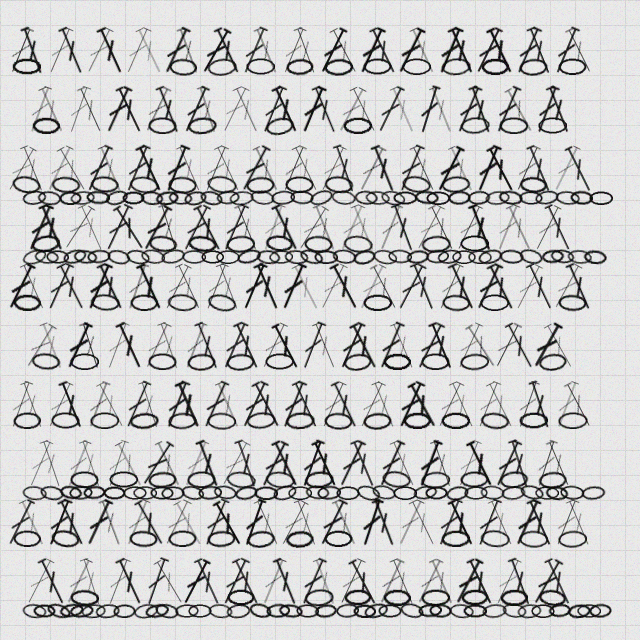chain: (264, 115, 296, 137), (206, 292, 238, 314), (206, 174, 238, 195), (11, 174, 42, 195), (401, 174, 432, 195), (30, 233, 61, 254), (381, 469, 412, 490), (50, 528, 81, 549), (207, 57, 237, 77), (129, 175, 159, 195), (148, 234, 178, 254), (187, 234, 217, 254), (343, 234, 373, 254), (480, 411, 510, 431), (226, 470, 256, 490), (265, 470, 295, 490), (246, 529, 276, 549), (167, 293, 198, 312), (343, 352, 372, 372), (538, 352, 567, 372), (538, 588, 567, 608), (441, 57, 471, 76), (187, 116, 217, 135), (460, 116, 490, 135), (324, 175, 354, 194), (441, 175, 471, 194), (90, 293, 120, 312), (31, 352, 61, 371), (246, 411, 276, 430), (285, 411, 315, 430), (304, 470, 334, 489), (499, 470, 529, 489), (480, 529, 510, 548), (304, 588, 334, 607), (308, 187, 335, 208), (90, 175, 119, 194), (265, 234, 294, 253), (51, 176, 81, 194), (421, 235, 451, 253), (21, 247, 48, 267), (298, 247, 325, 267), (129, 412, 159, 430), (355, 483, 382, 503), (45, 601, 72, 621), (324, 58, 353, 76), (519, 58, 548, 76), (168, 176, 197, 194), (246, 176, 275, 194), (519, 176, 548, 194), (226, 235, 255, 253), (304, 235, 333, 253), (558, 294, 587, 312), (187, 353, 216, 371), (226, 353, 255, 371), (460, 353, 489, 371), (168, 412, 197, 430), (207, 412, 236, 430), (324, 412, 353, 430), (363, 412, 392, 430), (148, 471, 177, 489), (421, 471, 450, 489), (538, 471, 567, 489), (129, 530, 158, 548), (207, 530, 236, 548), (285, 530, 314, 548), (519, 530, 548, 548), (558, 530, 587, 548), (70, 589, 99, 607), (558, 412, 588, 429), (169, 58, 197, 76), (286, 58, 314, 76), (442, 294, 470, 312), (104, 188, 130, 207), (62, 247, 88, 266), (160, 247, 186, 266), (236, 247, 262, 266), (477, 247, 503, 266), (518, 247, 544, 266), (272, 483, 298, 502), (371, 483, 397, 502), (519, 483, 545, 502), (363, 601, 389, 620), (399, 601, 425, 620), (12, 58, 41, 75), (246, 58, 275, 75), (363, 58, 392, 75), (402, 58, 431, 75), (558, 58, 587, 75), (148, 117, 177, 134), (343, 117, 372, 134), (499, 117, 528, 134), (538, 117, 567, 134), (285, 176, 314, 193), (460, 235, 489, 252), (363, 294, 392, 311), (480, 294, 509, 311), (70, 353, 99, 370), (148, 353, 177, 370), (265, 353, 294, 370), (421, 353, 450, 370), (51, 412, 80, 429), (90, 412, 119, 429), (441, 412, 470, 429), (519, 412, 548, 429), (70, 471, 99, 488), (109, 471, 138, 488), (187, 471, 216, 488), (460, 471, 489, 488), (168, 530, 197, 547), (324, 530, 353, 547), (441, 530, 470, 547), (421, 589, 450, 606), (481, 58, 509, 75), (32, 117, 60, 134), (13, 294, 41, 311), (130, 294, 158, 311), (383, 353, 411, 370), (13, 412, 41, 429), (403, 412, 431, 429), (13, 530, 41, 547), (227, 589, 255, 606), (344, 589, 372, 606), (383, 589, 411, 606), (461, 589, 489, 606), (500, 589, 528, 606), (248, 601, 273, 620), (380, 189, 406, 207), (125, 248, 151, 266), (372, 248, 398, 266), (39, 484, 65, 502), (133, 602, 159, 620), (144, 602, 170, 620), (154, 602, 180, 620), (183, 189, 208, 207), (199, 189, 224, 207), (106, 248, 131, 266), (352, 248, 377, 266), (180, 484, 205, 502), (234, 484, 259, 502), (445, 484, 470, 502), (534, 189, 560, 206), (140, 248, 166, 265), (22, 189, 47, 206), (250, 189, 275, 206), (331, 189, 356, 206), (498, 189, 523, 206), (332, 248, 357, 265), (437, 248, 462, 265), (550, 248, 575, 265), (413, 484, 438, 501), (59, 602, 84, 619), (502, 602, 527, 619), (59, 484, 83, 501), (213, 484, 237, 501), (37, 190, 62, 206), (70, 190, 95, 206), (168, 190, 193, 206), (229, 190, 254, 206), (365, 190, 390, 206), (485, 190, 510, 206), (555, 190, 580, 206), (34, 249, 59, 265), (73, 249, 98, 265), (256, 249, 281, 265), (284, 249, 309, 265), (567, 249, 592, 265), (22, 485, 47, 501), (501, 485, 526, 501), (581, 485, 606, 501), (22, 603, 47, 619), (69, 603, 94, 619), (81, 603, 106, 619), (95, 603, 120, 619), (208, 603, 233, 619), (226, 603, 251, 619), (278, 603, 303, 619), (449, 603, 474, 619), (482, 603, 507, 619), (517, 603, 542, 619), (140, 190, 164, 206), (155, 190, 179, 206), (406, 249, 430, 265), (583, 249, 607, 265), (545, 485, 569, 501), (314, 603, 338, 619), (567, 603, 591, 619), (414, 190, 439, 205), (499, 249, 524, 264), (305, 485, 330, 500), (480, 485, 505, 500), (86, 190, 110, 205), (216, 190, 240, 205), (271, 190, 295, 205), (290, 190, 314, 205), (354, 190, 378, 205), (467, 190, 491, 205), (87, 249, 111, 264), (388, 249, 412, 264), (541, 249, 565, 264), (69, 485, 93, 500), (198, 485, 222, 500), (317, 485, 341, 500), (560, 485, 584, 500), (266, 603, 290, 618), (418, 603, 442, 618), (548, 603, 572, 618), (448, 190, 471, 205), (570, 190, 593, 205), (426, 249, 449, 264), (83, 485, 106, 500), (336, 603, 359, 618), (429, 603, 452, 618), (589, 603, 612, 618), (393, 191, 417, 205), (426, 191, 450, 205), (519, 191, 543, 205), (589, 191, 613, 205), (182, 250, 206, 264), (216, 250, 240, 264), (269, 250, 293, 264), (314, 250, 338, 264), (452, 250, 476, 264), (468, 250, 492, 264), (123, 486, 147, 500), (133, 486, 157, 500), (150, 486, 174, 500), (161, 486, 185, 500), (254, 486, 278, 500), (288, 486, 312, 500), (336, 486, 360, 500), (393, 486, 417, 500), (464, 486, 488, 500), (535, 486, 559, 500), (175, 604, 199, 618), (188, 604, 212, 618), (378, 604, 402, 618), (463, 604, 487, 618), (531, 604, 555, 618), (577, 604, 601, 618), (59, 191, 82, 205), (122, 191, 145, 205), (46, 250, 69, 264), (201, 250, 224, 264), (103, 486, 126, 500), (425, 486, 448, 500), (33, 604, 56, 618), (113, 604, 136, 618), (296, 604, 319, 618), (353, 604, 376, 618)
double: (20, 321, 60, 371), (461, 321, 501, 371), (137, 439, 177, 488), (293, 203, 332, 253), (236, 143, 274, 194), (548, 261, 586, 312), (501, 320, 539, 371), (528, 320, 566, 371), (92, 379, 130, 430), (216, 438, 254, 489), (131, 497, 169, 548), (59, 203, 98, 252), (110, 203, 149, 252), (197, 26, 235, 76), (2, 144, 40, 194), (53, 144, 91, 194), (540, 321, 578, 371), (209, 498, 247, 548), (150, 557, 188, 607), (528, 557, 566, 607), (326, 25, 363, 76), (392, 25, 429, 76), (411, 202, 448, 253), (53, 261, 90, 312), (326, 261, 363, 312), (489, 320, 526, 371), (248, 379, 285, 430), (482, 379, 519, 430), (560, 379, 597, 430), (314, 497, 351, 548), (21, 556, 58, 607), (450, 556, 487, 607), (333, 85, 370, 135), (501, 85, 538, 135), (138, 203, 175, 253), (404, 380, 441, 430), (111, 439, 148, 489), (170, 498, 207, 548), (275, 498, 312, 548), (345, 557, 382, 607), (81, 25, 117, 76), (315, 25, 351, 76), (561, 25, 597, 76), (139, 84, 175, 135), (217, 84, 253, 135), (100, 202, 136, 253), (424, 202, 460, 253), (3, 261, 39, 312), (315, 261, 351, 312), (444, 261, 480, 312), (522, 261, 558, 312), (139, 320, 175, 371), (327, 379, 363, 430), (432, 379, 468, 430), (81, 497, 117, 548), (159, 497, 195, 548), (405, 497, 441, 548), (34, 556, 70, 607), (217, 556, 253, 607), (354, 144, 390, 194), (432, 144, 468, 194), (483, 144, 519, 194), (561, 144, 597, 194), (178, 203, 214, 253), (190, 203, 226, 253), (529, 203, 565, 253), (159, 262, 195, 312), (288, 262, 324, 312), (354, 262, 390, 312), (366, 262, 402, 312), (393, 262, 429, 312), (483, 262, 519, 312), (510, 262, 546, 312), (268, 321, 304, 371), (346, 321, 382, 371), (412, 321, 448, 371), (256, 439, 292, 489), (178, 557, 214, 607), (93, 25, 128, 76), (120, 25, 155, 76), (132, 25, 167, 76), (159, 25, 194, 76), (210, 25, 245, 76), (354, 25, 389, 76), (366, 25, 401, 76), (444, 25, 479, 76), (471, 25, 506, 76), (483, 25, 518, 76), (73, 84, 108, 135), (112, 84, 147, 135), (229, 84, 264, 135), (268, 84, 303, 135), (346, 84, 381, 135), (373, 84, 408, 135), (42, 143, 77, 194), (132, 143, 167, 194), (210, 143, 245, 194), (249, 143, 284, 194), (288, 143, 323, 194), (315, 143, 350, 194), (444, 143, 479, 194), (510, 143, 545, 194), (549, 143, 584, 194), (268, 202, 303, 253), (451, 202, 486, 253), (502, 202, 537, 253), (541, 202, 576, 253), (42, 261, 77, 312), (93, 261, 128, 312), (171, 261, 206, 312), (471, 261, 506, 312), (61, 320, 96, 371), (112, 320, 147, 371), (256, 320, 291, 371), (42, 379, 77, 430), (120, 379, 155, 430), (171, 379, 206, 430), (198, 379, 233, 430), (237, 379, 272, 430), (288, 379, 323, 430), (354, 379, 389, 430), (393, 379, 428, 430), (151, 438, 186, 489), (268, 438, 303, 489), (334, 438, 369, 489), (463, 438, 498, 489), (490, 438, 525, 489), (3, 497, 38, 548), (15, 497, 50, 548), (54, 497, 89, 548), (393, 497, 428, 548), (444, 497, 479, 548), (510, 497, 545, 548), (61, 556, 96, 607), (112, 556, 147, 607), (229, 556, 264, 607), (334, 556, 369, 607), (412, 556, 447, 607), (463, 556, 498, 607), (490, 556, 525, 607), (541, 556, 576, 607), (4, 25, 38, 76), (43, 25, 77, 76), (406, 25, 440, 76), (433, 25, 467, 76), (511, 25, 545, 76), (35, 84, 69, 135), (101, 84, 135, 135), (179, 84, 213, 135), (296, 84, 330, 135), (308, 84, 342, 135), (386, 84, 420, 135), (82, 143, 116, 194), (172, 143, 206, 194), (277, 143, 311, 194), (394, 143, 428, 194), (406, 143, 440, 194), (23, 202, 57, 253), (74, 202, 108, 253), (218, 202, 252, 253), (335, 202, 369, 253), (16, 261, 50, 312), (82, 261, 116, 312), (133, 261, 167, 312), (250, 261, 284, 312), (406, 261, 440, 312), (433, 261, 467, 312), (562, 261, 596, 312), (218, 320, 252, 371), (230, 320, 264, 371), (335, 320, 369, 371), (374, 320, 408, 371), (386, 320, 420, 371), (452, 320, 486, 371), (211, 379, 245, 430), (316, 379, 350, 430), (367, 379, 401, 430), (445, 379, 479, 430), (23, 438, 57, 489), (179, 438, 213, 489), (308, 438, 342, 489), (374, 438, 408, 489), (386, 438, 420, 489), (452, 438, 486, 489), (199, 497, 233, 548), (250, 497, 284, 548), (328, 497, 362, 548), (484, 497, 518, 548), (523, 497, 557, 548), (562, 497, 596, 548), (191, 556, 225, 607), (296, 556, 330, 607), (374, 556, 408, 607), (425, 556, 459, 607), (55, 25, 88, 76), (238, 25, 271, 76), (250, 25, 283, 76), (277, 25, 310, 76), (523, 25, 556, 76), (550, 25, 583, 76), (152, 84, 185, 135), (257, 84, 290, 135), (425, 84, 458, 135), (452, 84, 485, 135), (491, 84, 524, 135), (542, 84, 575, 135), (16, 143, 49, 194), (94, 143, 127, 194), (121, 143, 154, 194), (160, 143, 193, 194), (199, 143, 232, 194), (367, 143, 400, 194), (472, 143, 505, 194), (523, 143, 556, 194), (35, 202, 68, 253), (230, 202, 263, 253), (347, 202, 380, 253), (374, 202, 407, 253), (464, 202, 497, 253), (238, 261, 271, 312), (277, 261, 310, 312), (101, 320, 134, 371), (191, 320, 224, 371), (308, 320, 341, 371), (425, 320, 458, 371), (16, 379, 49, 430), (55, 379, 88, 430), (277, 379, 310, 430), (472, 379, 505, 430), (62, 438, 95, 489), (347, 438, 380, 489), (413, 438, 446, 489), (542, 438, 575, 489), (43, 497, 76, 548), (94, 497, 127, 548), (121, 497, 154, 548), (433, 497, 466, 548), (472, 497, 505, 548), (550, 497, 583, 548), (257, 556, 290, 607), (269, 556, 302, 607), (386, 556, 419, 607), (24, 84, 56, 135), (63, 84, 95, 135), (531, 84, 563, 135), (309, 202, 341, 253), (387, 202, 419, 253), (492, 202, 524, 253), (200, 261, 232, 312), (212, 261, 244, 312), (36, 320, 68, 371), (153, 320, 185, 371), (297, 320, 329, 371), (5, 379, 37, 430), (161, 379, 193, 430), (551, 379, 583, 430), (192, 438, 224, 489), (426, 438, 458, 489), (290, 497, 322, 548), (368, 497, 400, 548), (102, 556, 134, 607), (309, 556, 341, 607), (504, 556, 536, 607), (17, 25, 48, 76), (173, 25, 204, 76), (290, 25, 321, 76), (465, 84, 496, 135), (329, 143, 360, 194), (258, 202, 289, 253), (122, 261, 153, 312), (75, 320, 106, 371), (180, 320, 211, 371), (83, 379, 114, 430), (134, 379, 165, 430), (512, 379, 543, 430), (36, 438, 67, 489), (75, 438, 106, 489), (102, 438, 133, 489), (231, 438, 262, 489), (297, 438, 328, 489), (531, 438, 562, 489), (239, 497, 270, 548), (141, 556, 172, 607), (525, 379, 555, 430), (357, 497, 387, 548), (76, 556, 106, 607), (193, 84, 222, 135), (415, 84, 444, 135), (154, 202, 183, 253), (505, 438, 534, 489)
